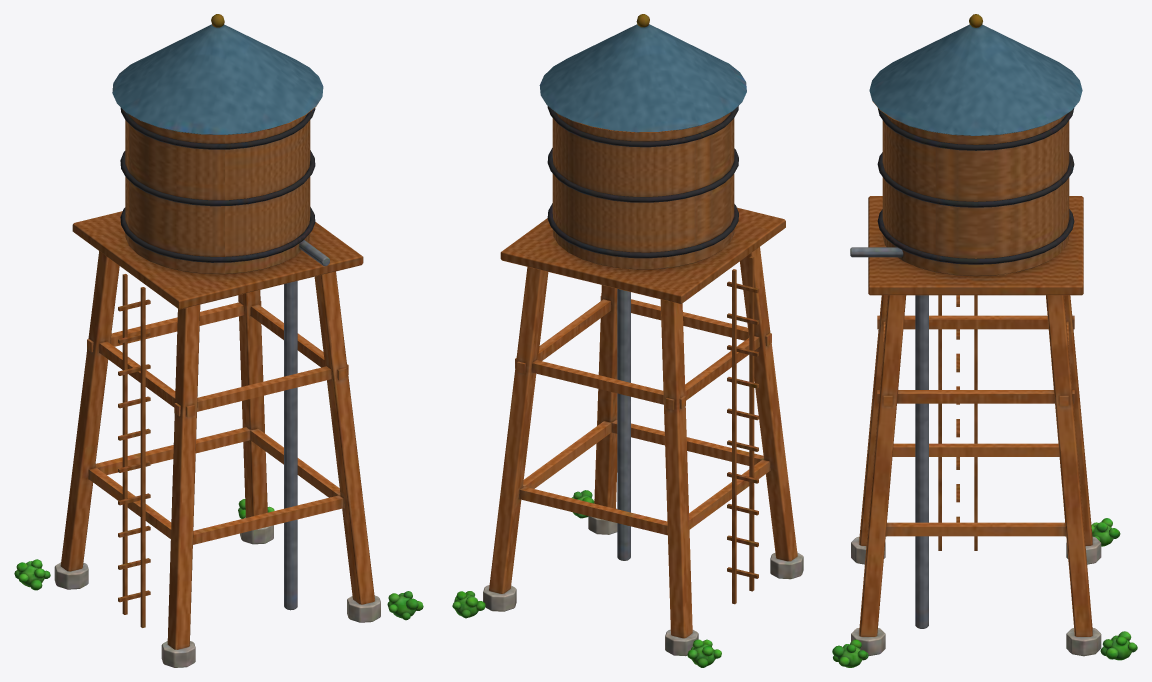
The model's file is water_tower.glb.
3 renders of one model, left to right at view 1: azimuth 30°, elevation 25°; view 2: azimuth 150°, elevation 25°; view 3: azimuth 270°, elevation 25°, orthographic. The views are drawn at different scales.
Parts seen in each view (by area): view 1: water_tower; view 2: water_tower; view 3: water_tower.
Part boxes in pixels (<box>): water_tower: <box>14,14,423,667</box>; water_tower: <box>452,14,803,667</box>; water_tower: <box>832,14,1137,667</box>.
Size of the model in its own units: 1.81 by 3.63 by 1.7.
Materials: 1 (1 with a texture image).
